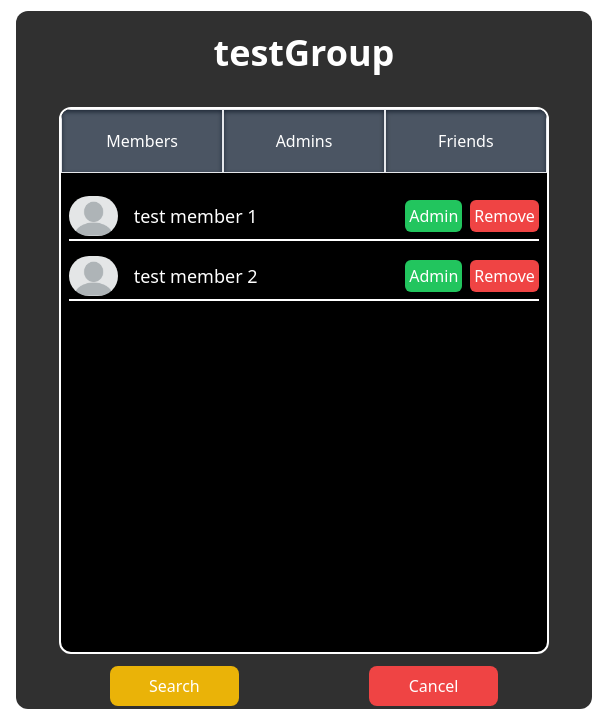
Test: tests the groupManagerComponent › should show the friends other than the members
Click the button "Friends": (466, 141) [385, 109, 547, 173]
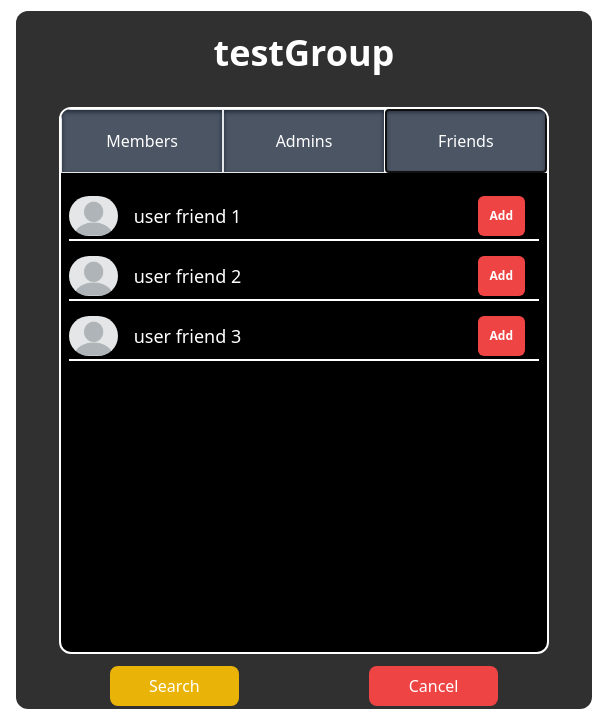
Expected: the text "user friend 1" is shown, [134, 204, 241, 228]
